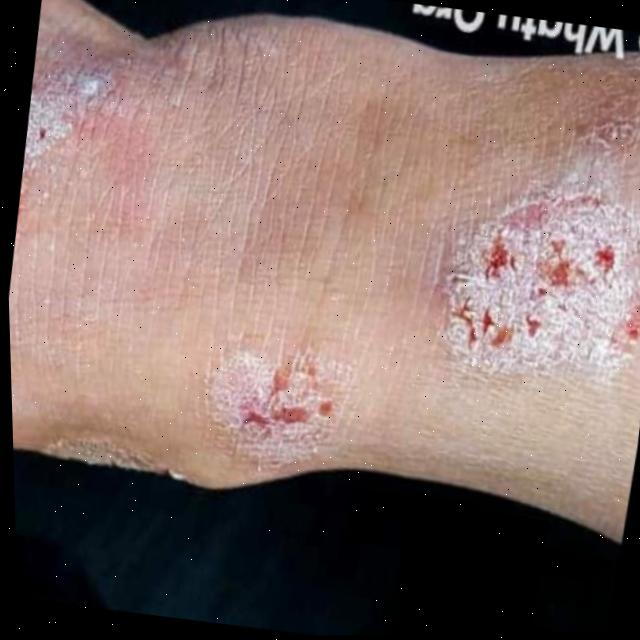Eczema: (443, 186, 640, 398), (199, 337, 362, 466), (12, 37, 100, 228)
